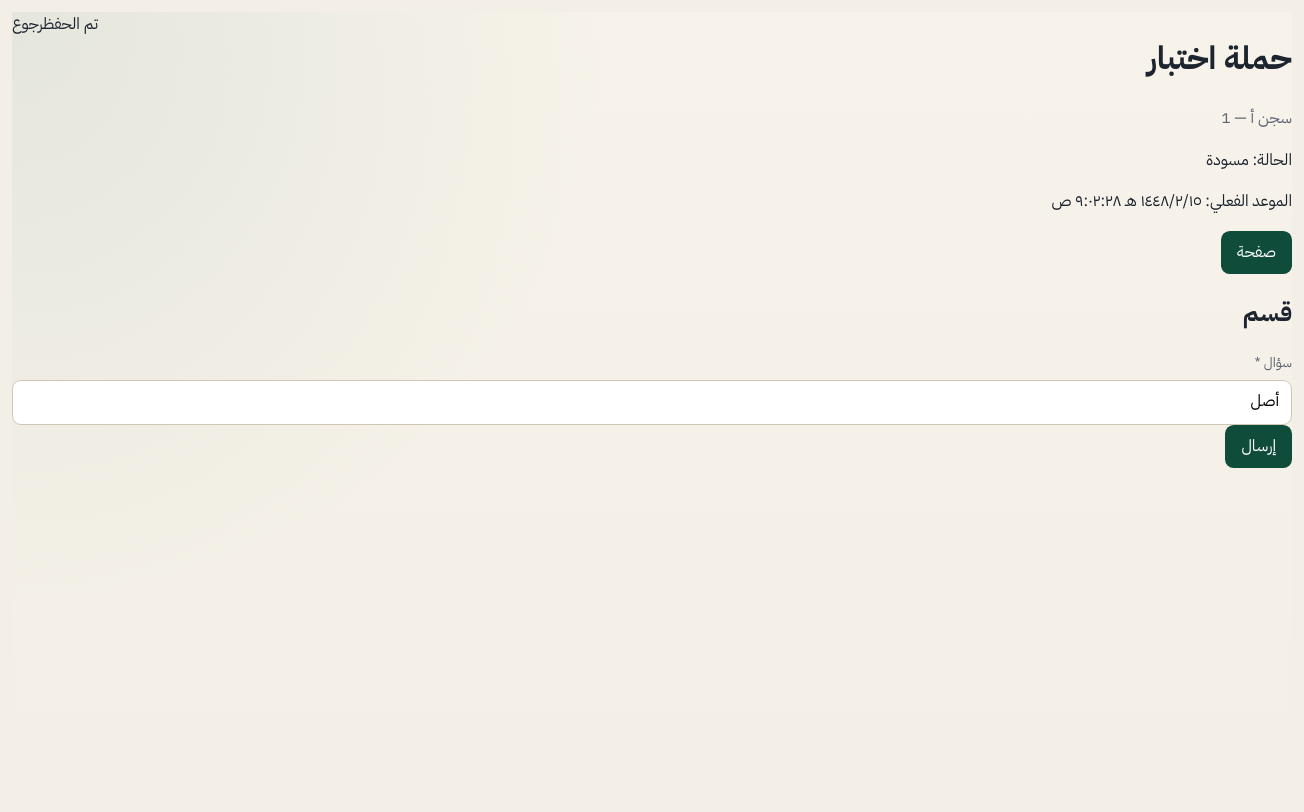
Scenario: RespondPage › conflict reload applies server snapshot
Replace the text in the field labelled "سؤال" with "محلي": (652, 402) [12, 380, 1292, 425]
Wait 900 ms
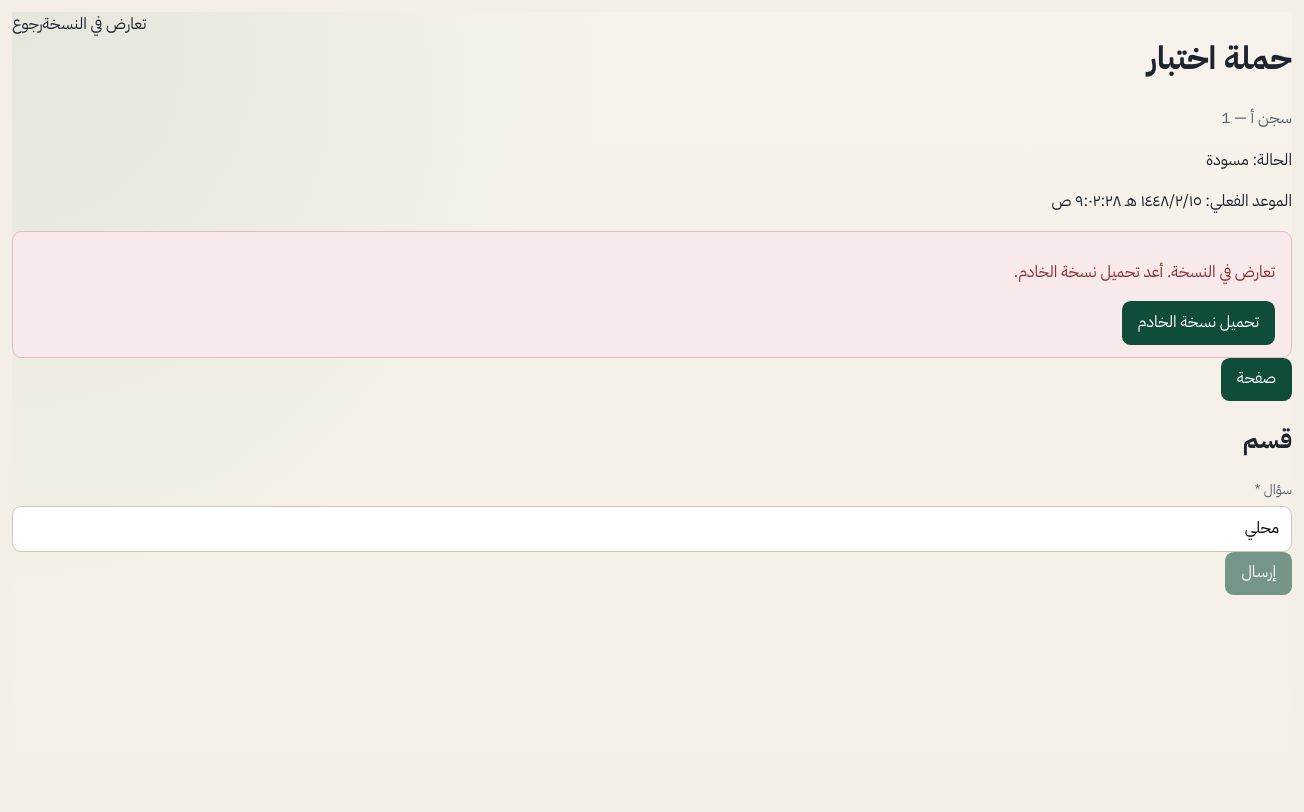
Now the message shows "تعارض", box [1014, 260, 1275, 284]
Click the button "تحميل نسخة الخادم": (1198, 323) [1122, 301, 1275, 345]
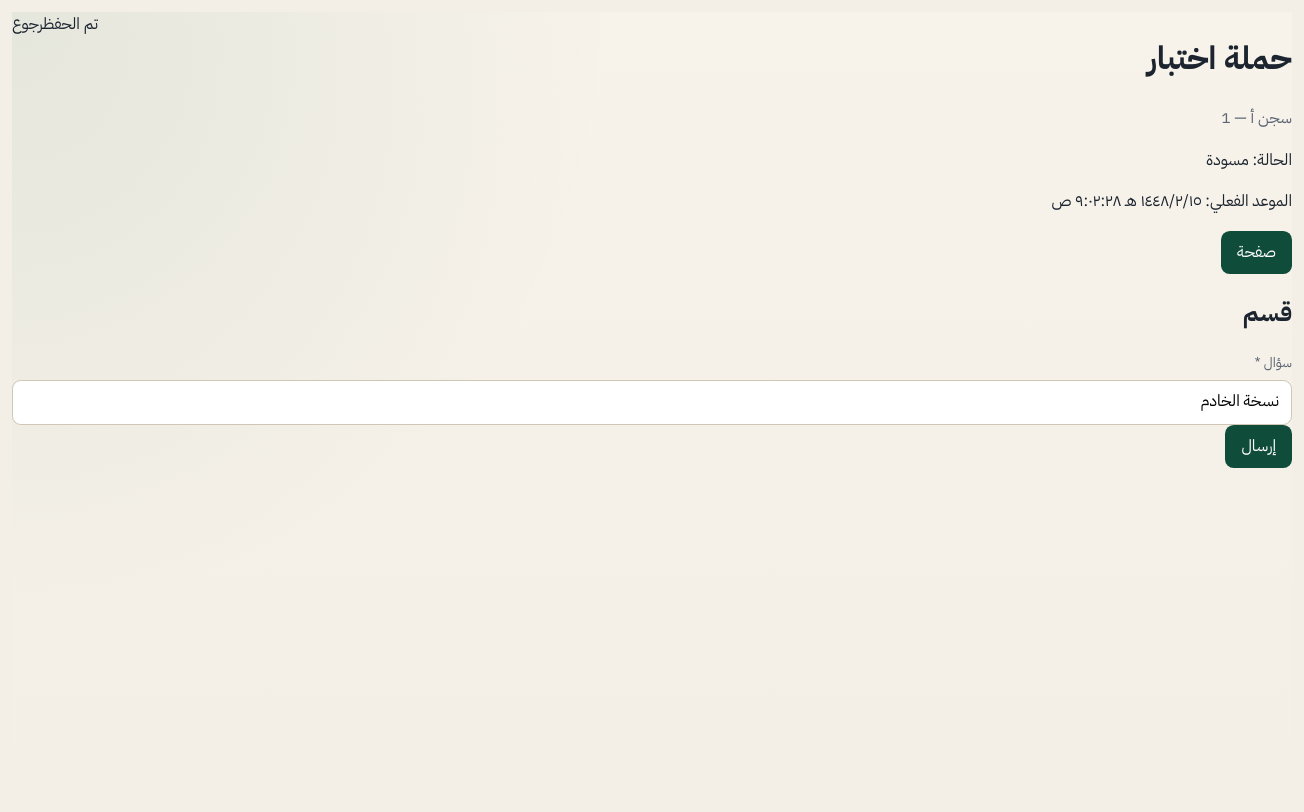
Now the field labelled "سؤال" holds "نسخة الخادم", box [12, 380, 1292, 425]
